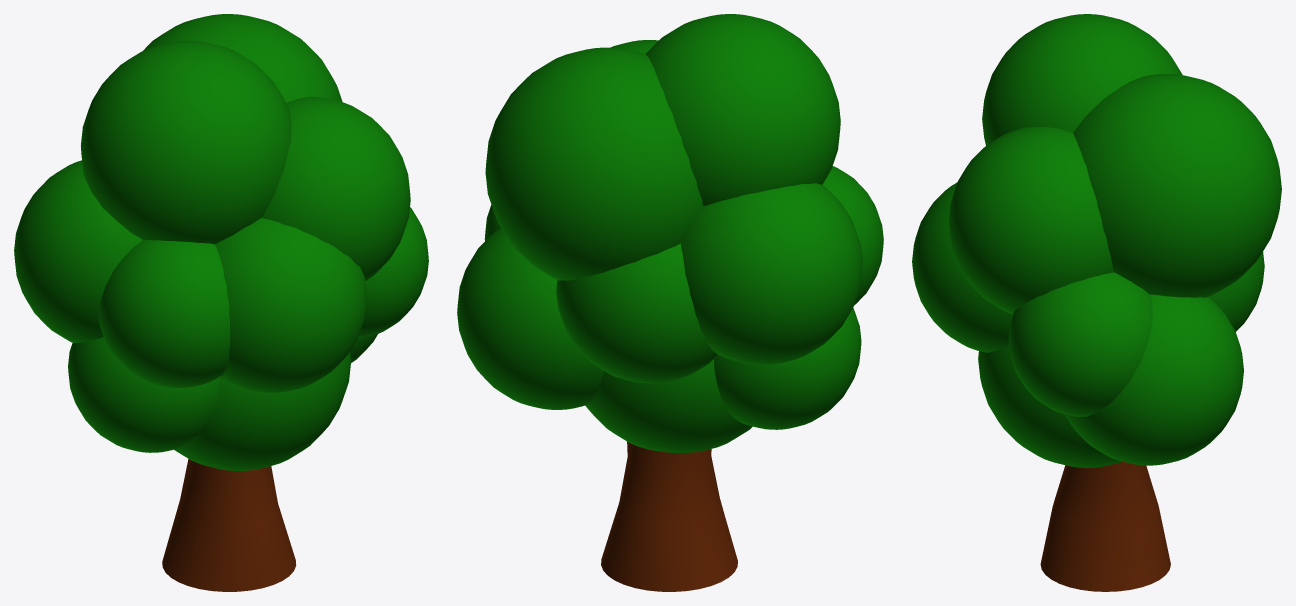
Rendered from Tree_Cartoon1.fbx.
3 views of the same model, side by side, from view 1: azimuth 30°, elevation 25°; view 2: azimuth 150°, elevation 25°; view 3: azimuth 270°, elevation 25° (orthographic). The views are drawn at different scales.
Parts seen in each view (by area): view 1: Tree1; view 2: Tree1; view 3: Tree1.
Part boxes in pixels (x1=…): Tree1: x1=14, y1=14, x2=428, y2=591; Tree1: x1=457, y1=14, x2=883, y2=591; Tree1: x1=912, y1=14, x2=1281, y2=591.
Bounding box in the file's own units: 378 × 522 × 338.
